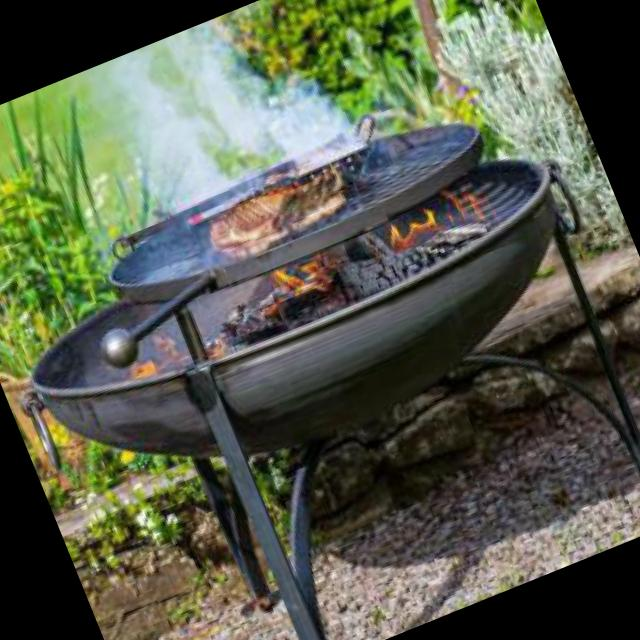fire: (250, 172, 494, 322)
